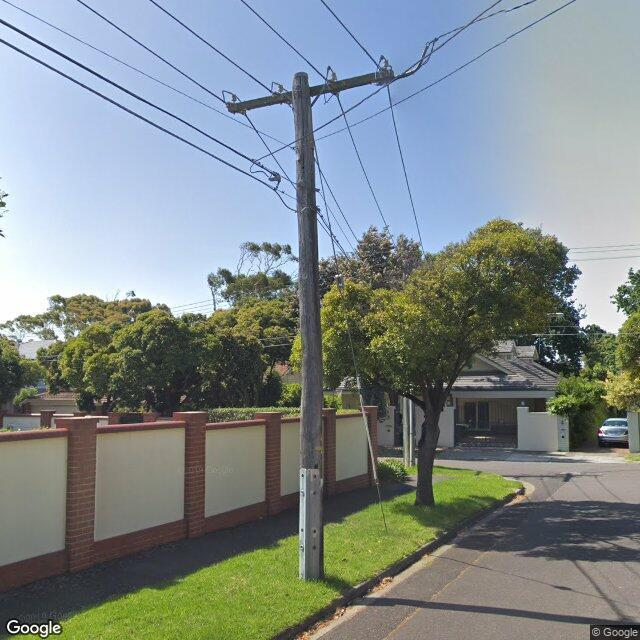crossarm: (222, 54, 395, 115)
timber-pole: (293, 71, 325, 579)
